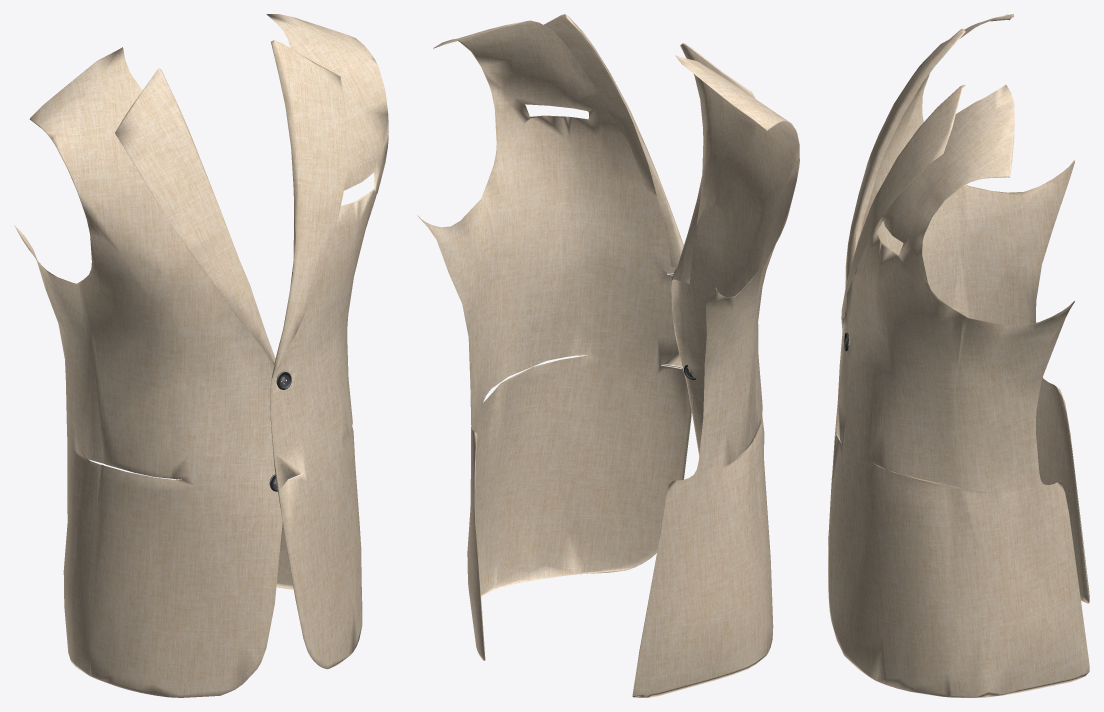
Rendered from noch_doublebtn_new.glb.
3 views of the same model, side by side, from view 1: azimuth 30°, elevation 25°; view 2: azimuth 150°, elevation 25°; view 3: azimuth 270°, elevation 25° (orthographic). The views are drawn at different scales.
Parts seen in each view (by area): view 1: Notch_Double_Button; view 2: Notch_Double_Button; view 3: Notch_Double_Button.
Part boxes in pixels (box(x1,y1,x2,y2)): Notch_Double_Button: box(14, 14, 388, 697); Notch_Double_Button: box(417, 14, 799, 697); Notch_Double_Button: box(828, 14, 1089, 697).
Bounding box in the file's own units: 0.0585 × 0.1024 × 0.0411.
4 materials, 3 textured.
